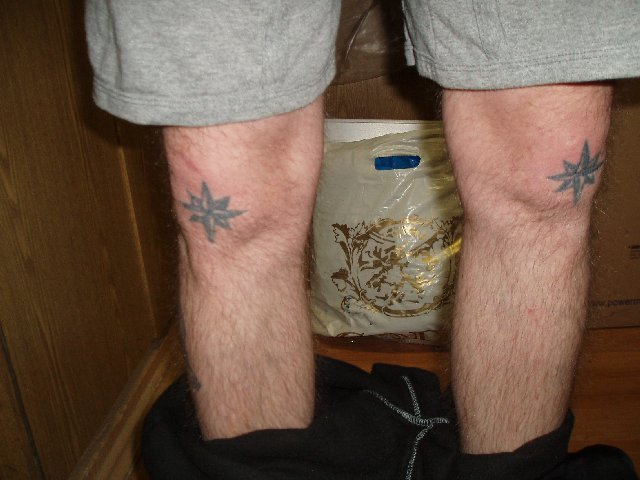tatu4_zvezda: (179, 180, 247, 244), (545, 141, 607, 210)
